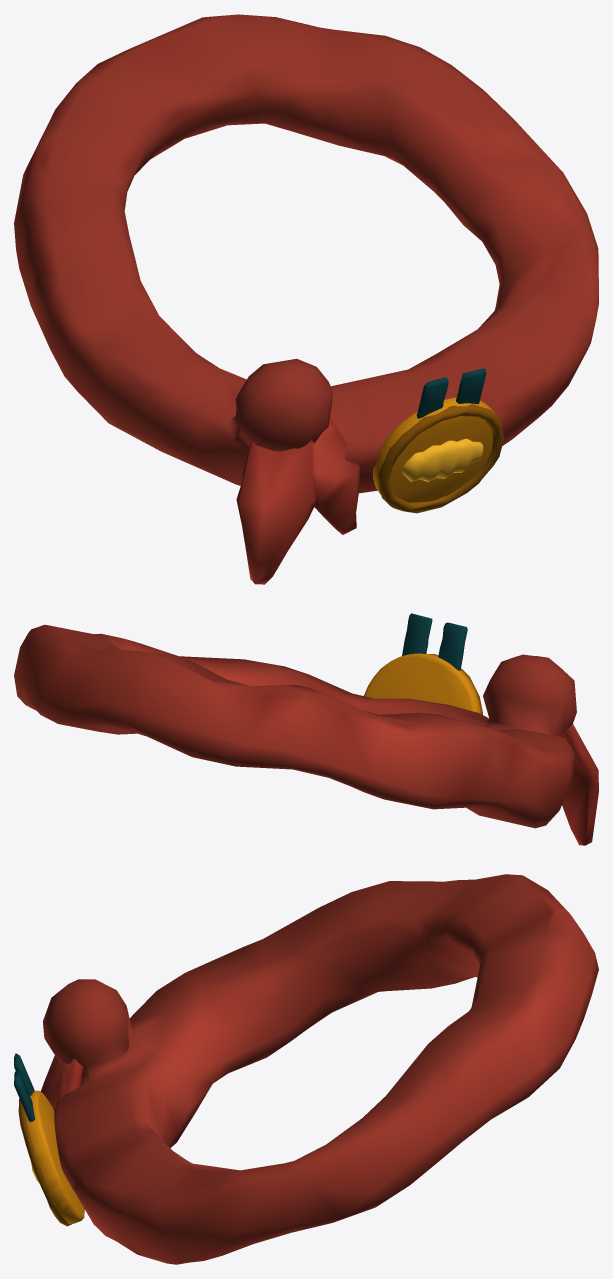
File: huyhieu.glb
The picture shows the model from 3 angles, top to bottom: view 1: azimuth 30°, elevation 25°; view 2: azimuth 150°, elevation 25°; view 3: azimuth 270°, elevation 25°; orthographic projection. The views are drawn at different scales.
Visible parts, largest first — view 1: Khan_Do, Khan_Do_Duoi, Huy_Hieu, Vien_HH, Banh_Noi, Ruy_Bang; view 2: Khan_Do, Huy_Hieu, Khan_Do_Duoi, Ruy_Bang; view 3: Khan_Do, Huy_Hieu, Khan_Do_Duoi, Vien_HH, Ruy_Bang.
Part boxes in pixels (<box>): Khan_Do: <box>14,14,598,493</box>; Khan_Do_Duoi: <box>236,417,359,584</box>; Huy_Hieu: <box>373,397,494,502</box>; Vien_HH: <box>377,404,503,513</box>; Banh_Noi: <box>401,438,483,481</box>; Ruy_Bang: <box>416,368,486,418</box>; Khan_Do: <box>14,624,576,828</box>; Huy_Hieu: <box>364,653,480,713</box>; Khan_Do_Duoi: <box>561,724,598,845</box>; Ruy_Bang: <box>402,613,467,670</box>; Khan_Do: <box>43,874,598,1264</box>; Huy_Hieu: <box>23,1090,84,1224</box>; Khan_Do_Duoi: <box>40,1055,83,1110</box>; Vien_HH: <box>18,1099,71,1226</box>; Ruy_Bang: <box>14,1053,35,1121</box>.
Bounding box in the file's own units: 0.2765 × 0.1711 × 0.275.
